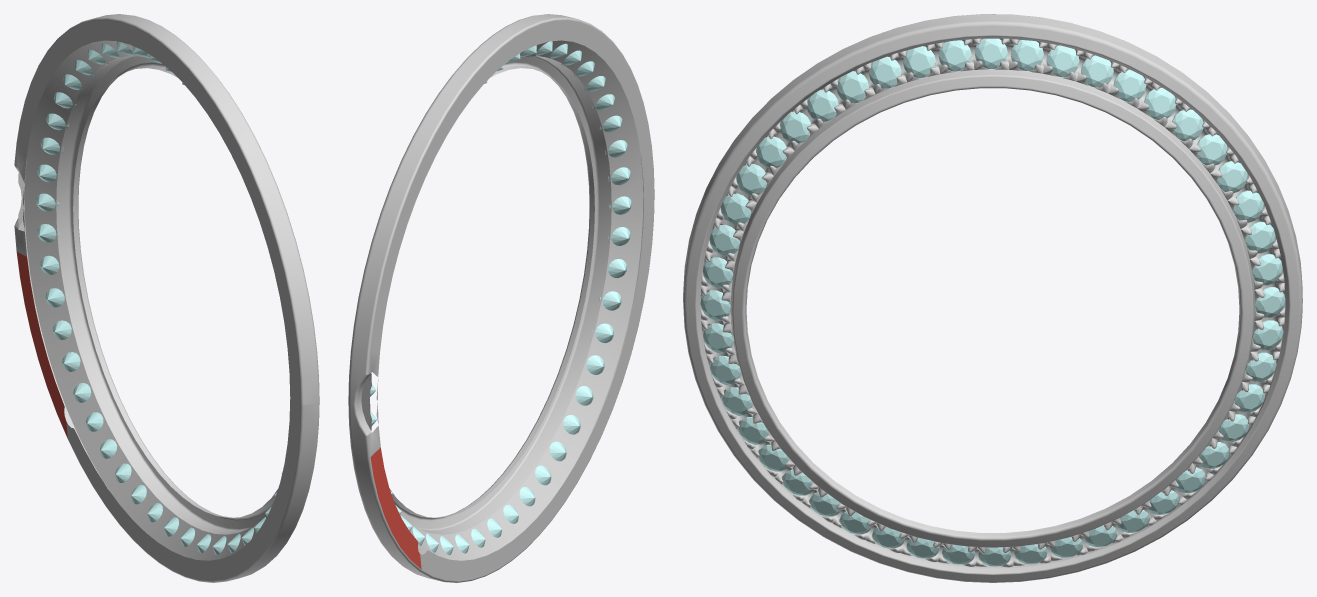
The model's file is Bezel_Diamonds.fbx.
3 renders of one model, left to right at view 1: azimuth 30°, elevation 25°; view 2: azimuth 150°, elevation 25°; view 3: azimuth 270°, elevation 25°, orthographic. The views are drawn at different scales.
Visible parts, largest first — view 1: Bezel_Jewels; view 2: Bezel_Jewels; view 3: Bezel_Jewels, diamond_010, diamond_046, diamond_044, diamond_005, diamond_047, diamond_006, diamond_009, diamond_040, diamond_045, diamond_004, diamond_041 (+2 smaller).
Part boxes in pixels (x1,y1,x2,y2): Bezel_Jewels: [14, 14, 319, 582]; Bezel_Jewels: [348, 14, 654, 582]; Bezel_Jewels: [683, 14, 1302, 582]; diamond_010: [938, 40, 971, 71]; diamond_046: [974, 38, 1007, 68]; diamond_044: [1046, 45, 1079, 77]; diamond_005: [836, 71, 869, 103]; diamond_047: [1011, 40, 1043, 70]; diamond_006: [869, 56, 901, 88]; diamond_009: [903, 46, 935, 77]; diamond_040: [1113, 69, 1146, 102]; diamond_045: [1081, 55, 1113, 87]; diamond_004: [807, 89, 838, 121]; diamond_041: [1144, 87, 1176, 119].
Bounding box in the file's own units: 2.67 × 35.5 × 35.5.
